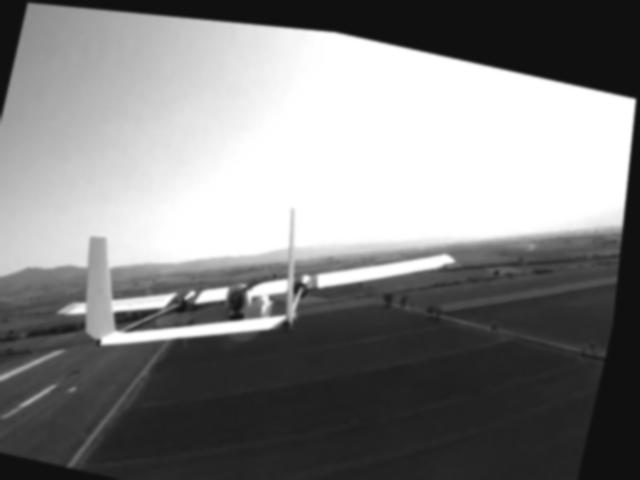hedef: (42, 143, 477, 420)
